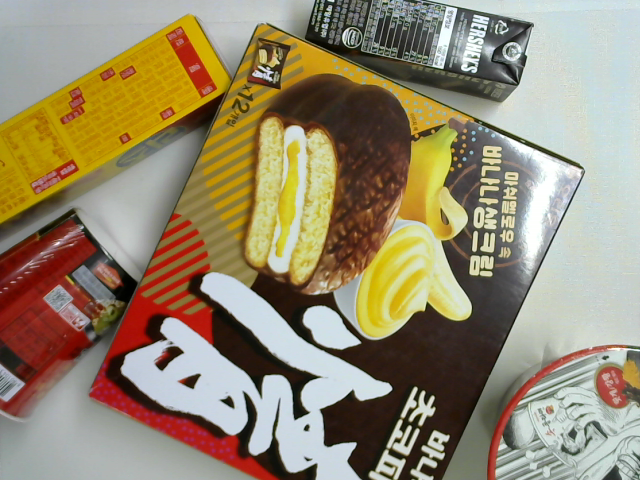Choco_Pie_Banana: (86, 21, 587, 480)
Hejangpul: (487, 342, 640, 480)
Hush_Choco_Drink: (304, 1, 537, 105)
Ritz_Sand_Cracker: (1, 12, 239, 245)
Sinramen_small: (1, 206, 147, 424)
